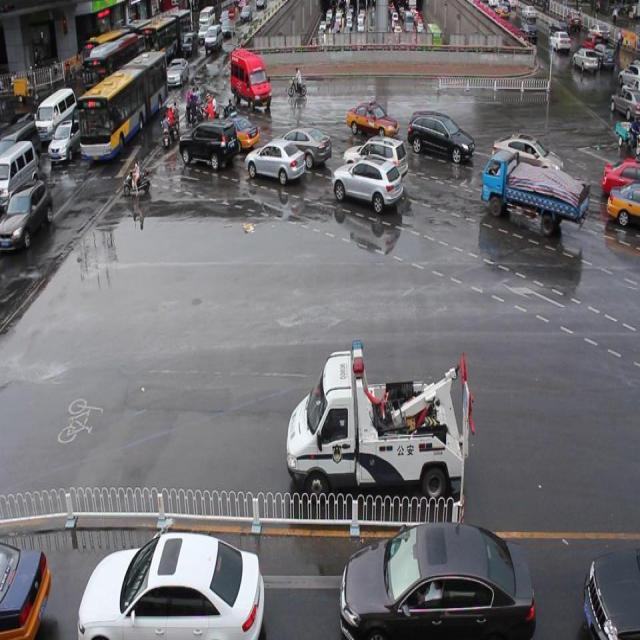BigCar: (483, 149, 588, 261), (80, 52, 166, 164)
car: (282, 352, 465, 493), (338, 531, 542, 640), (78, 535, 263, 640), (586, 548, 640, 640), (329, 157, 404, 216), (409, 105, 474, 172), (245, 136, 308, 202), (2, 184, 51, 256), (230, 41, 275, 111), (177, 122, 239, 172), (350, 94, 403, 141), (291, 121, 331, 161), (2, 145, 35, 187), (36, 92, 71, 128), (51, 124, 79, 166), (610, 82, 638, 122), (574, 46, 598, 86), (170, 49, 192, 92), (553, 27, 571, 56), (208, 24, 224, 56), (590, 18, 610, 41), (523, 3, 540, 21)
